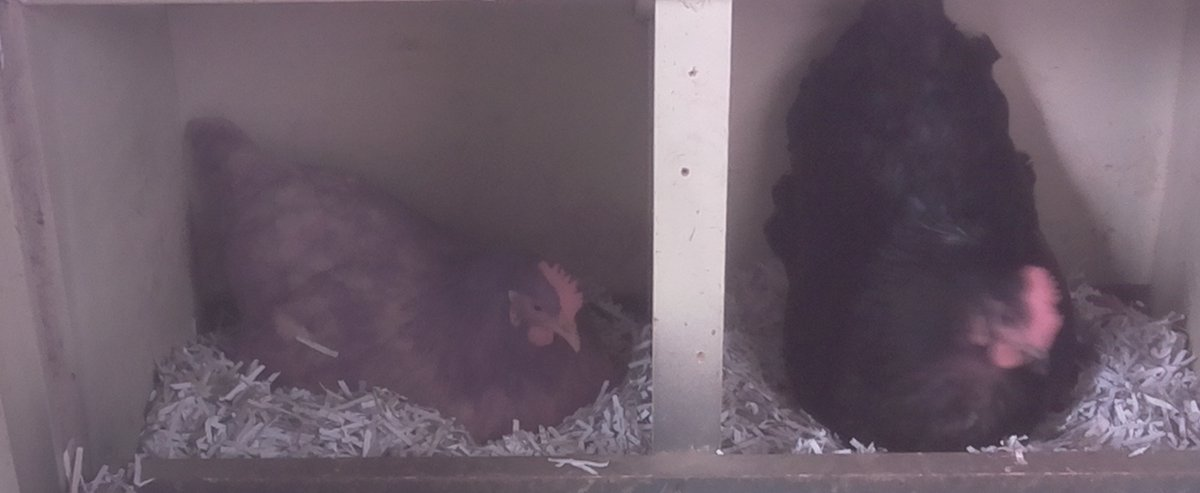hen: (178, 115, 640, 444), (766, 12, 1088, 451)
